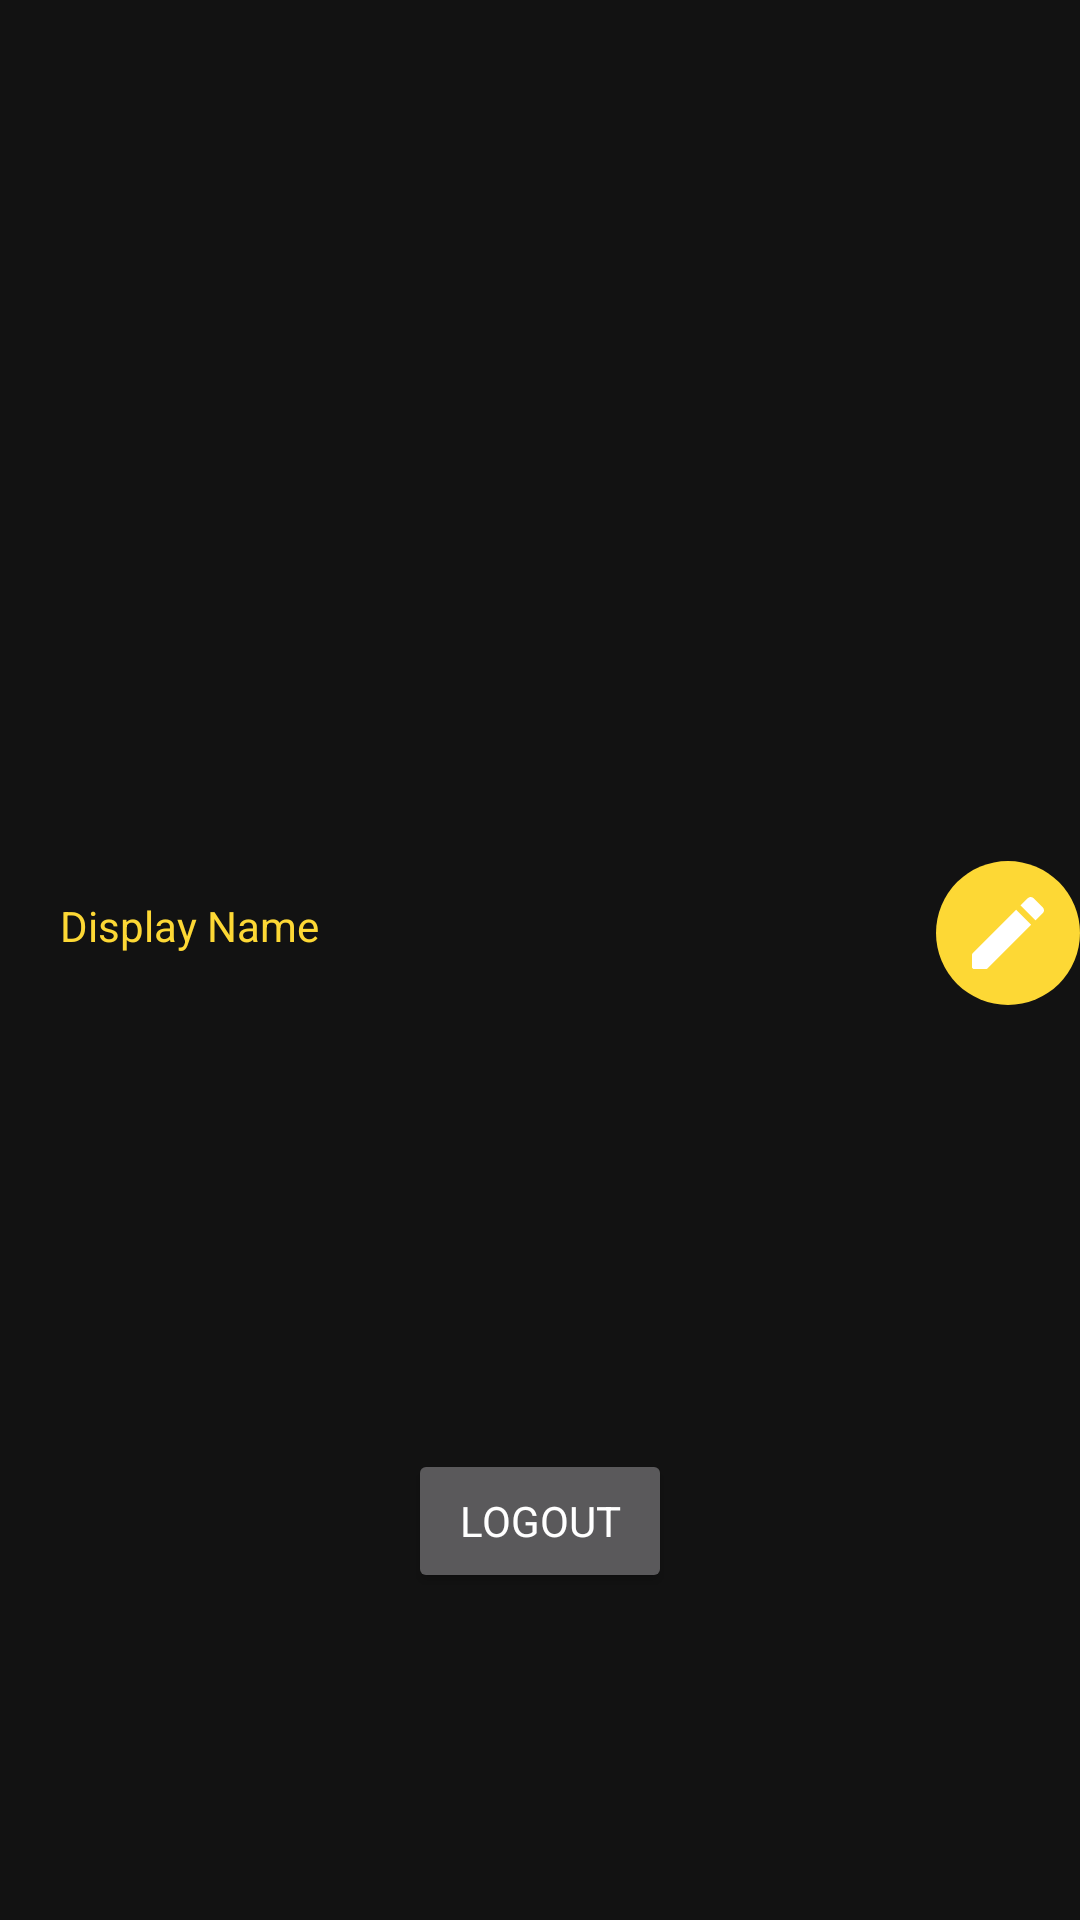

Named icons in this screenshot (1080px x 1920px) and their bounding boxes, BBox(x1, y1, x2, y2):
edit: BBox(936, 861, 1080, 1005)
